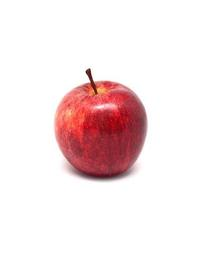apple: (52, 68, 147, 177)
